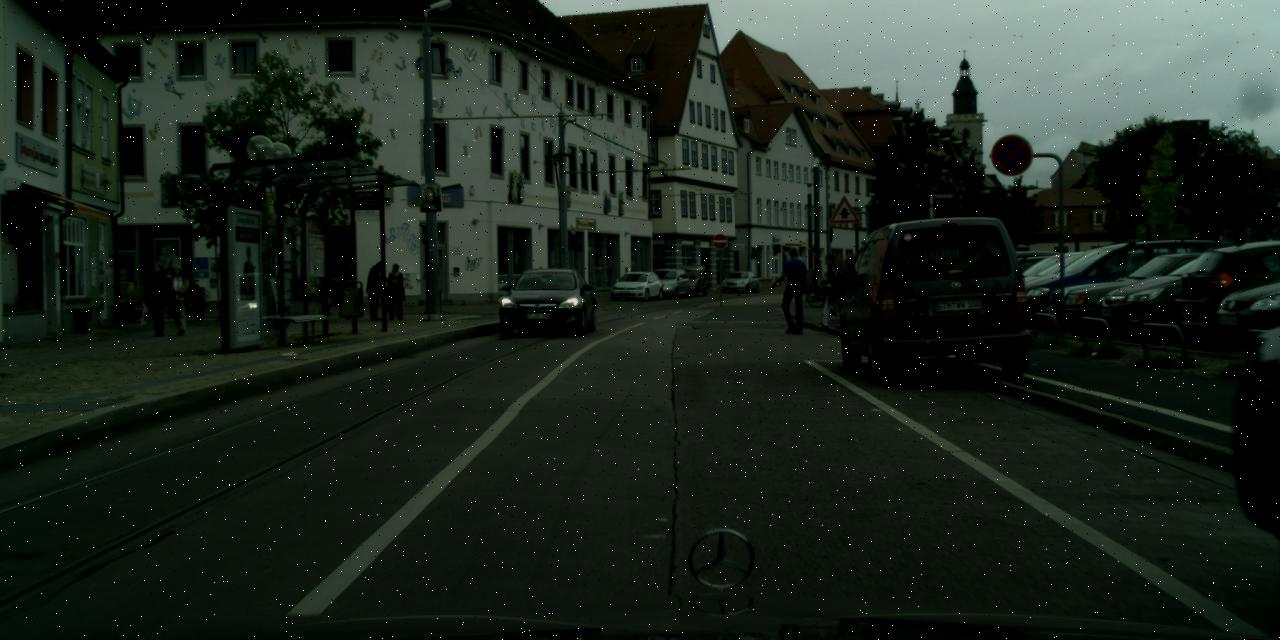ped: (777, 246, 811, 331), (816, 253, 846, 330), (142, 262, 172, 334), (164, 265, 192, 334), (366, 260, 390, 319), (384, 264, 406, 318)
